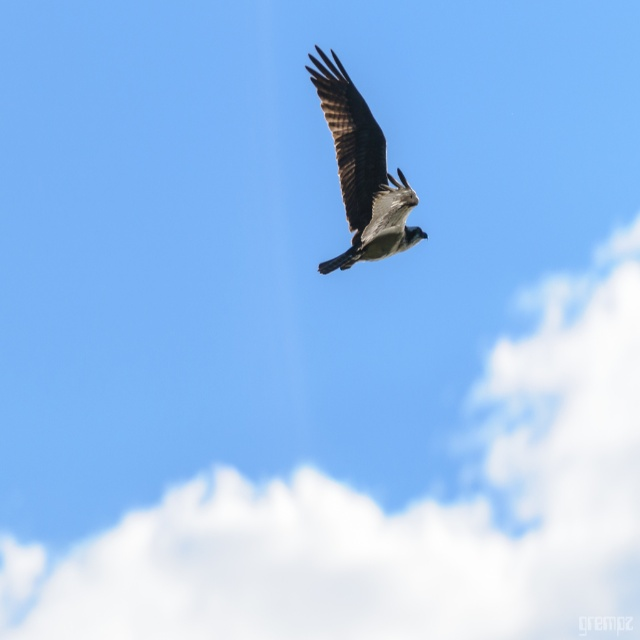Eagle: (302, 41, 434, 279)
